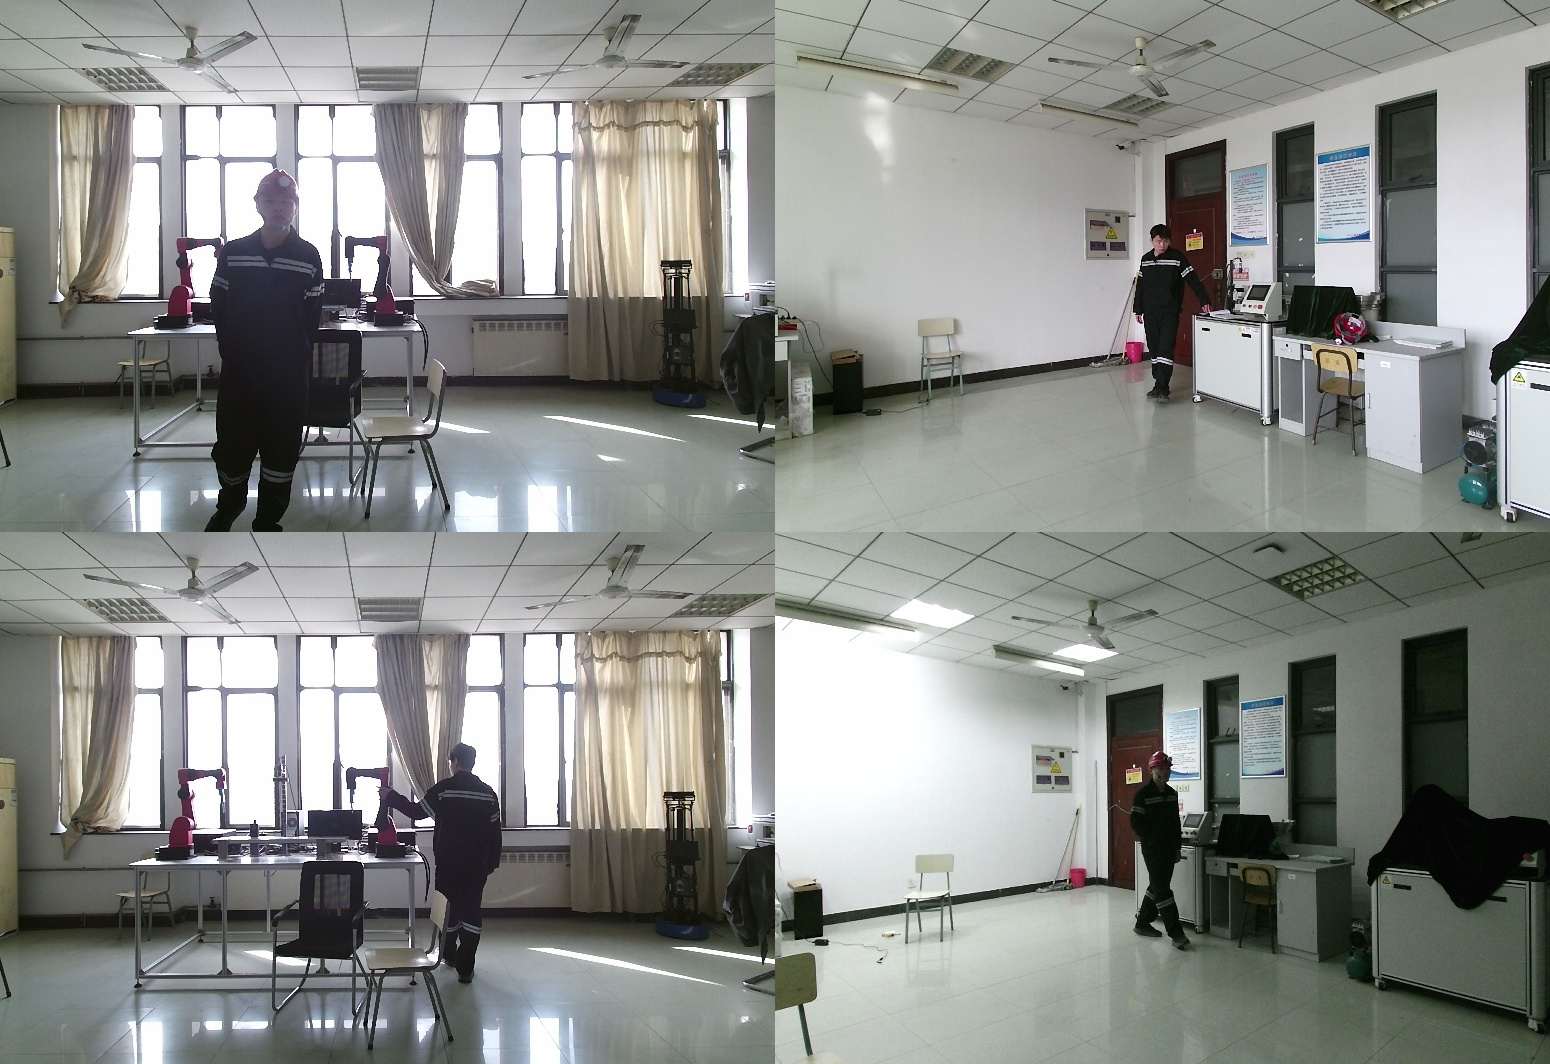person: (207, 170, 333, 532), (390, 747, 508, 982), (1137, 226, 1213, 408), (1121, 751, 1189, 948)
